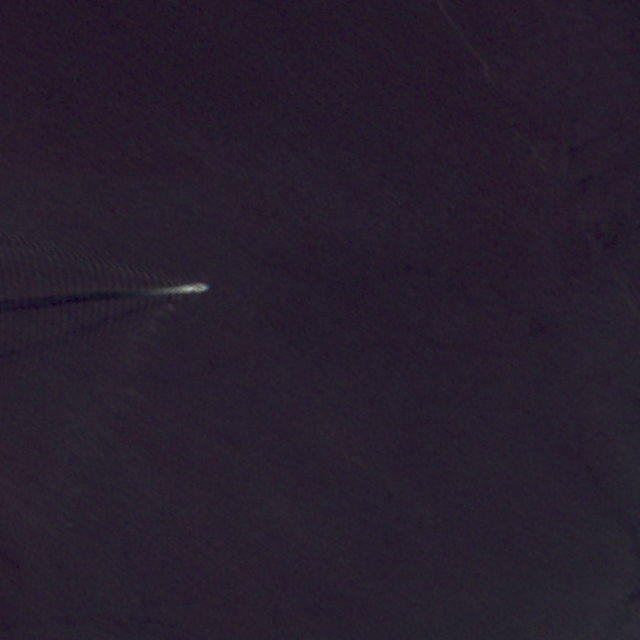wake: (22, 233, 232, 357)
